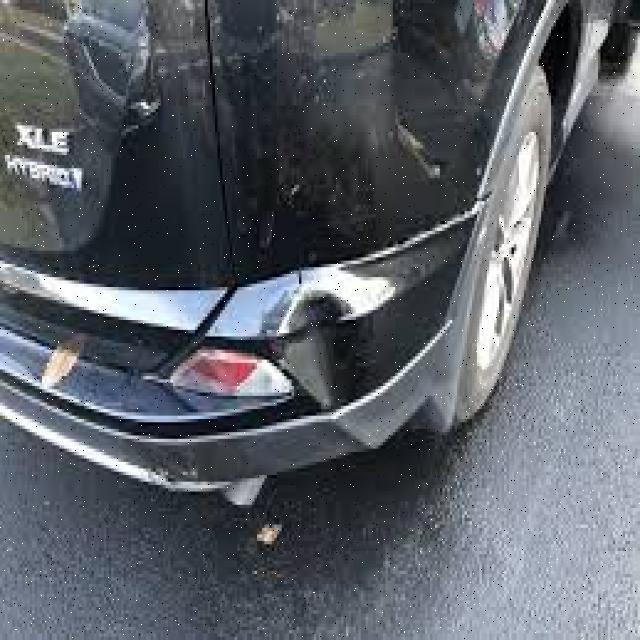rear-bumper-dent: (0, 274, 485, 473)
